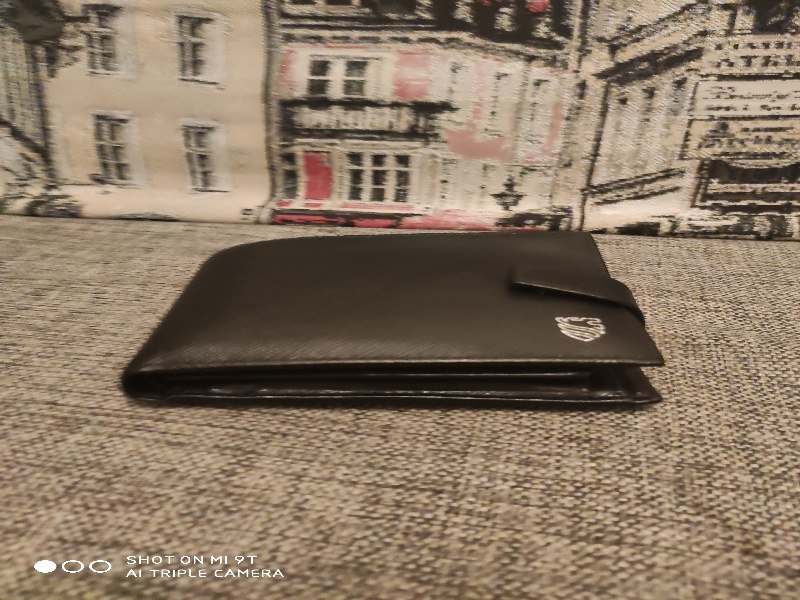wallet: (105, 218, 681, 438)
